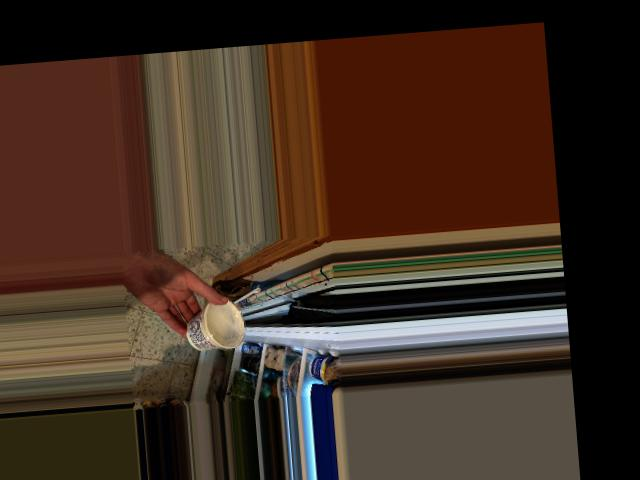cotage: (186, 296, 238, 349)
